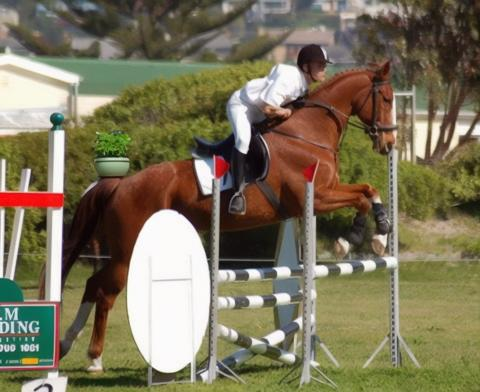horse: (43, 56, 407, 374)
person: (221, 44, 331, 218)
pottedplant: (94, 130, 129, 177)
